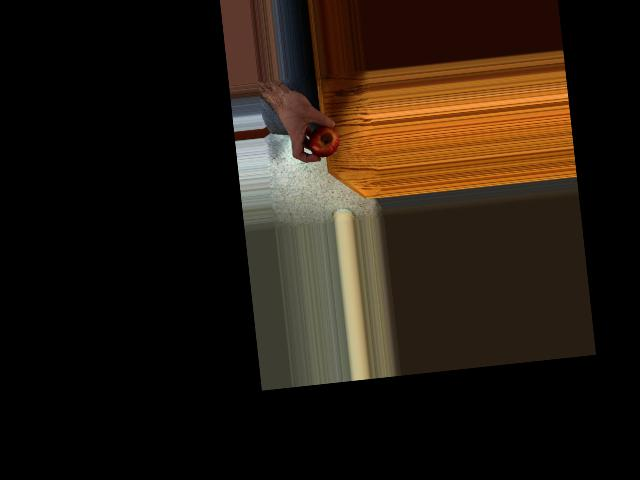apple: (309, 123, 340, 158)
